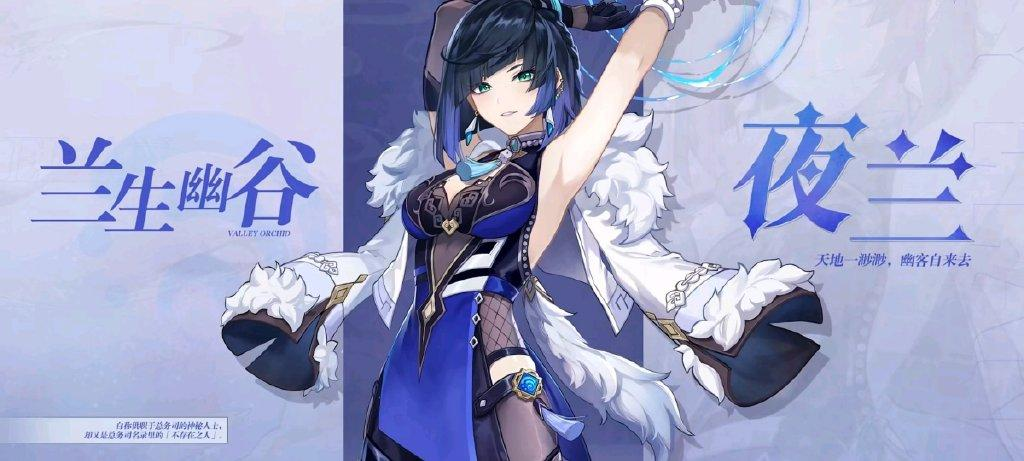夜兰: (351, 1, 715, 461)
